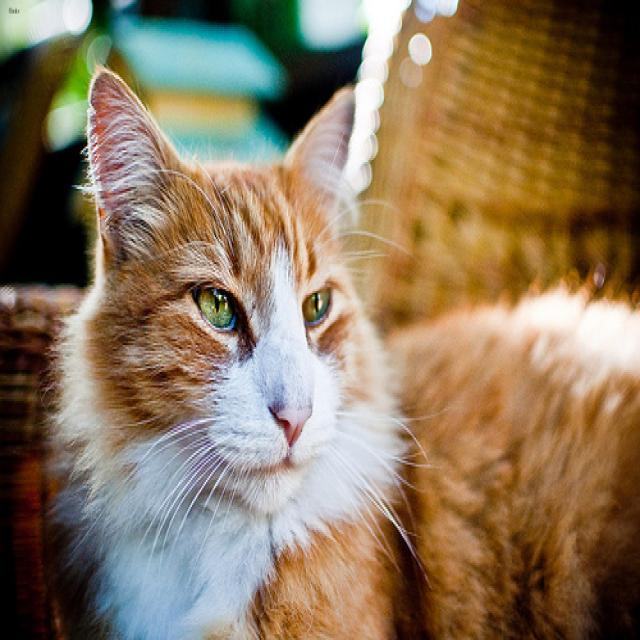cat: (86, 63, 352, 510)
